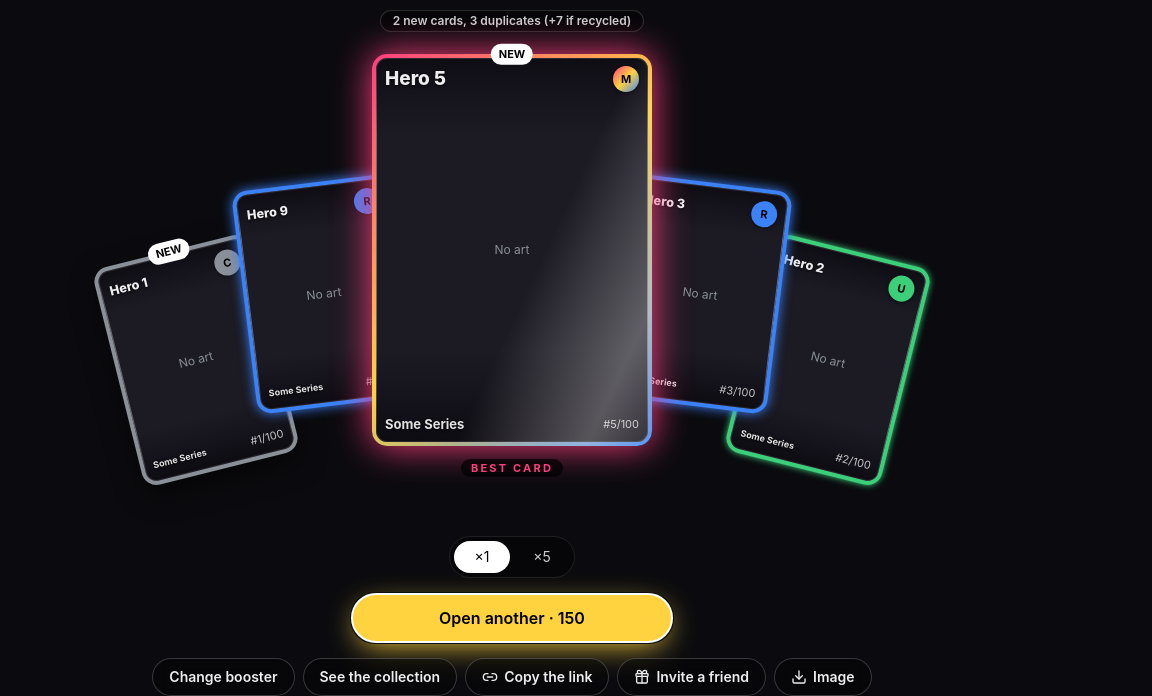
Test: Summary › copies the page URL
The width and height of the screenshot is (1152, 696).
(page scrolled)
Click the button "Copy the link": (537, 677) [465,658,610,695]
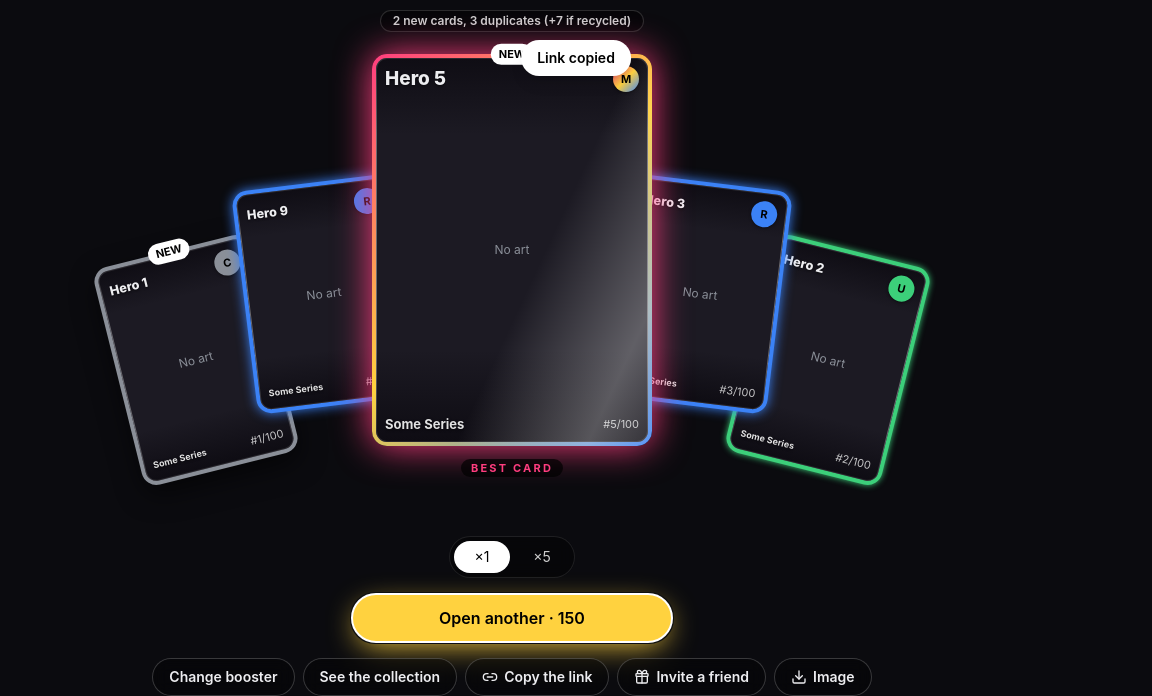
Check: the text "Link copied" is shown, box [521,40,631,76]
